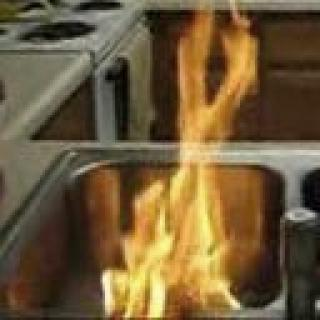fire: (107, 0, 257, 320)
